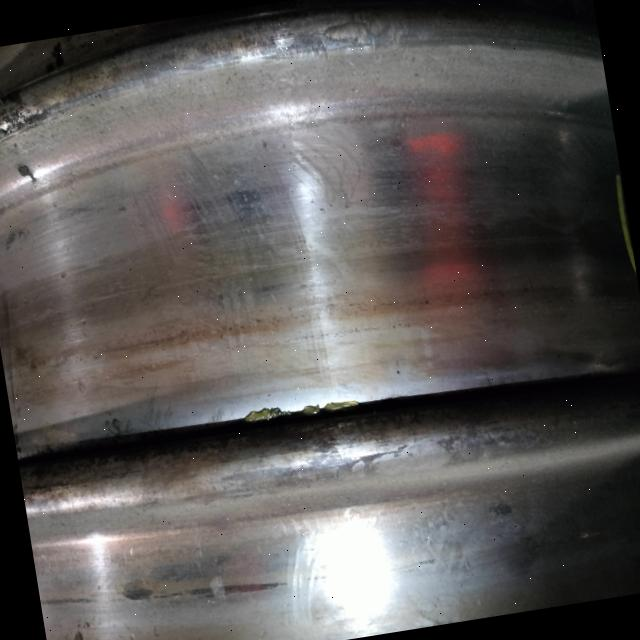Contact_Fatigue_Cracks: (293, 1, 438, 63), (326, 418, 441, 477)
Rollerpile: (1, 76, 75, 151)
